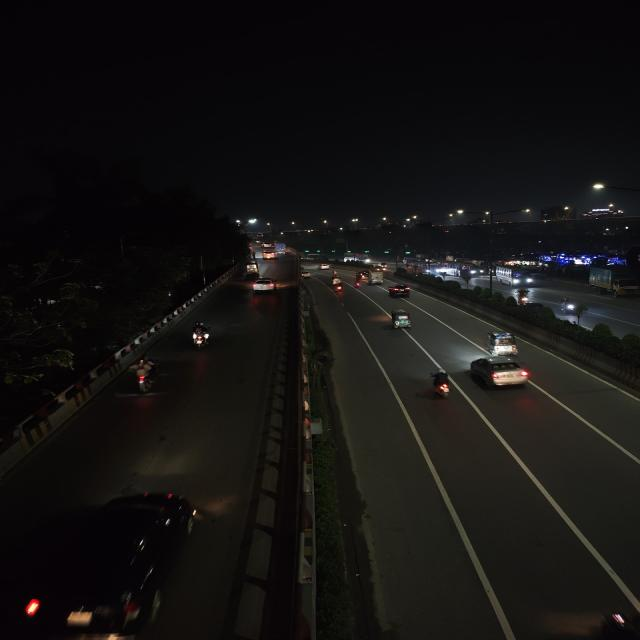bus: (492, 267, 536, 289), (402, 258, 449, 275), (422, 259, 450, 275), (458, 263, 483, 277)
car: (468, 355, 534, 393), (251, 277, 278, 293), (388, 284, 412, 298), (260, 249, 277, 260), (317, 263, 329, 271)
cng: (484, 329, 521, 357), (389, 308, 415, 330), (245, 261, 259, 273), (331, 276, 343, 287)
motorcycle: (129, 357, 163, 395), (426, 366, 455, 402), (188, 321, 214, 351), (558, 296, 578, 315), (354, 279, 361, 288)
truck: (587, 266, 640, 298), (368, 272, 386, 287)
